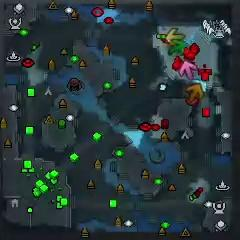x1: (179, 60, 197, 80)
x2: (165, 27, 186, 43)
x3: (195, 80, 208, 92)
x4: (170, 40, 187, 55)
x5: (186, 83, 203, 102)
